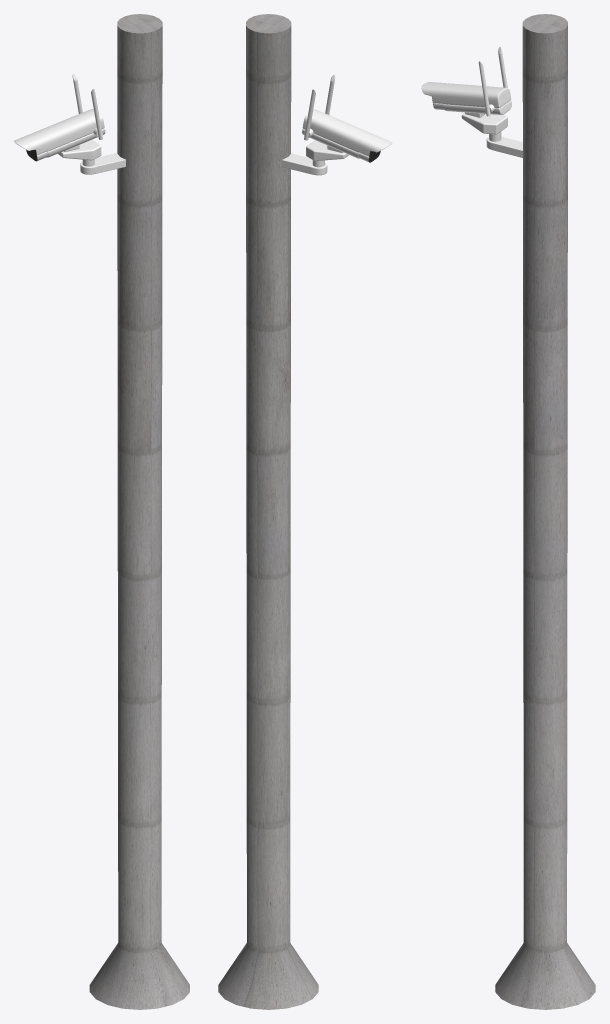
3 renders of one model, left to right at view 1: azimuth 30°, elevation 25°; view 2: azimuth 150°, elevation 25°; view 3: azimuth 330°, elevation 25°, orthographic.
Visible parts, largest first — view 1: 对象003, 头部040, 机座040; view 2: 对象003, 头部040, 机座040; view 3: 对象003, 头部040, 机座040.
Boxes of the visible parts, x1,y1,x2,y2 form: 对象003: (89,14,189,1009); 头部040: (14,73,105,161); 机座040: (58,139,125,174); 对象003: (218,14,318,1009); 头部040: (302,74,392,162); 机座040: (281,140,348,175); 对象003: (495,14,595,1009); 头部040: (421,46,511,116); 机座040: (461,112,522,157).
Bounding box in the file's own units: 474 × 2627 × 247.
